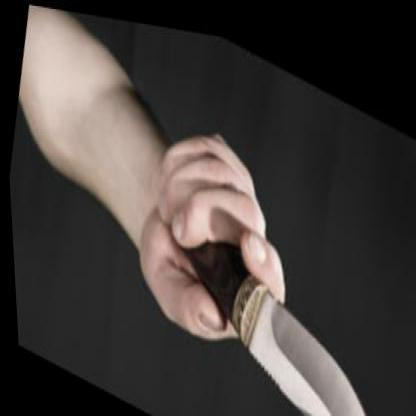knife: (132, 104, 415, 413)
